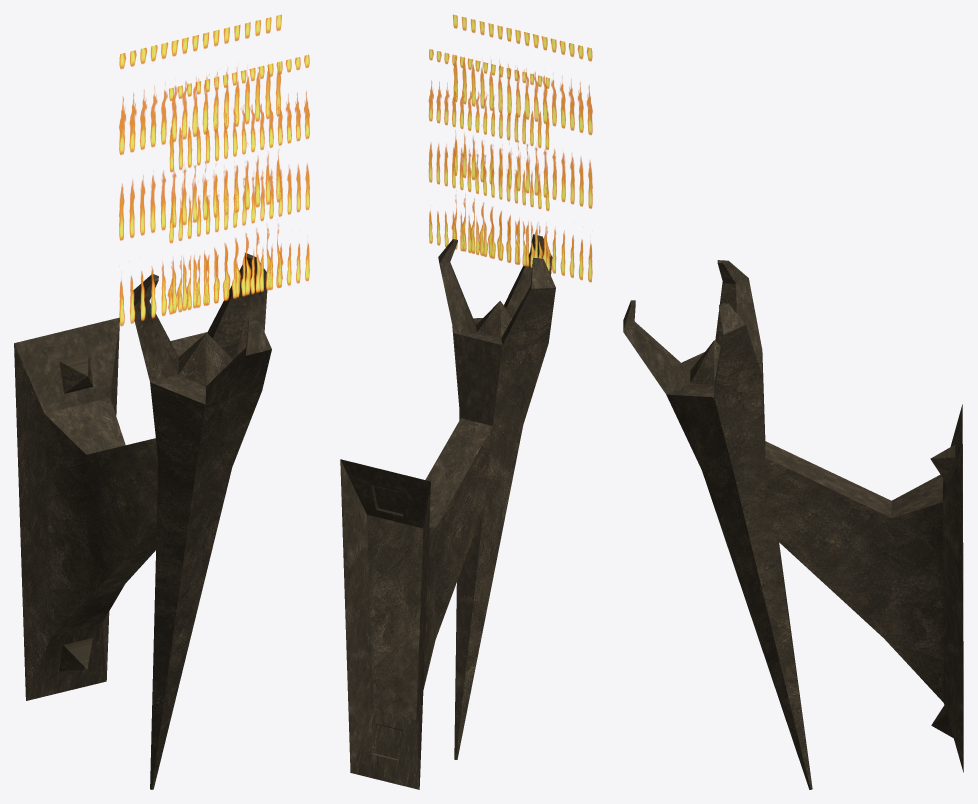
The model's file is mm9_deco_torchrust.glb.
3 renders of one model, left to right at view 1: azimuth 30°, elevation 25°; view 2: azimuth 150°, elevation 25°; view 3: azimuth 270°, elevation 25°, orthographic. The views are drawn at different scales.
Visible parts, largest first — view 1: Torchrust; view 2: Torchrust; view 3: Torchrust.
Boxes of the visible parts, left/top/right/bottom form: Torchrust: left=14, top=14, right=309, bottom=789; Torchrust: left=340, top=14, right=592, bottom=789; Torchrust: left=623, top=260, right=963, bottom=789.
Size of the model in its own units: 0.35 by 1.38 by 0.5817.
Materials: 2 (2 with a texture image).
